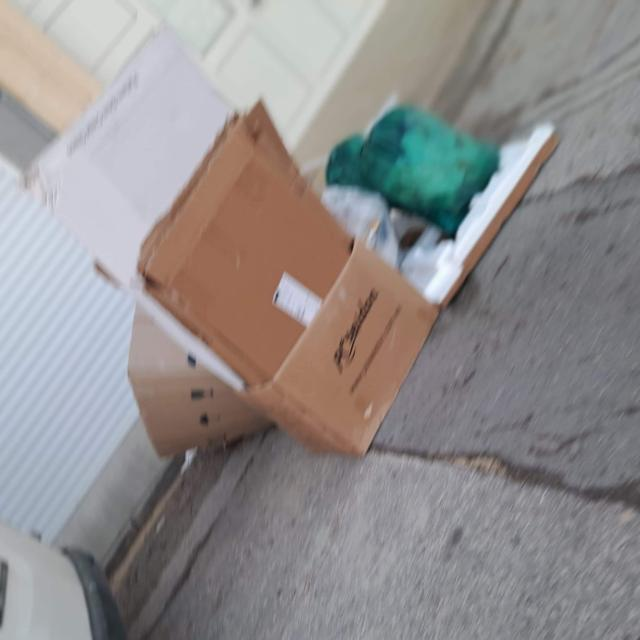Other: (21, 29, 442, 458), (311, 100, 559, 302)
